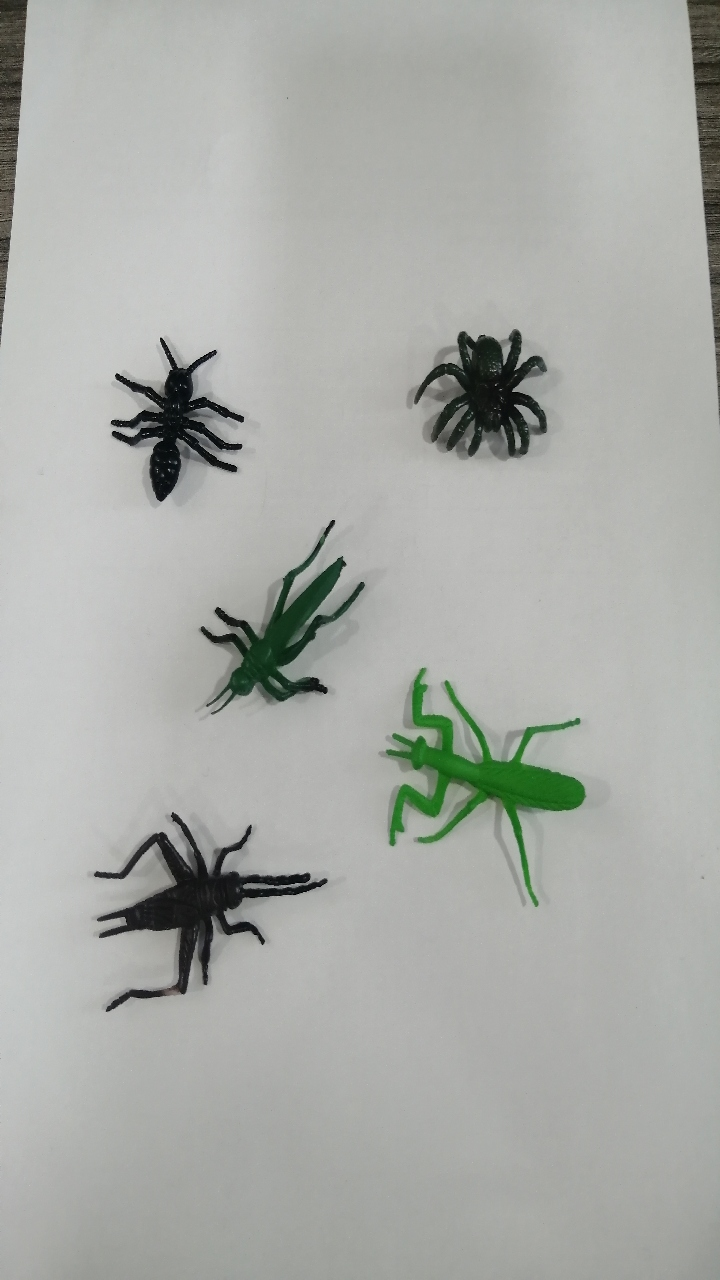intruso: (363, 652, 608, 931), (77, 789, 335, 1032), (183, 512, 388, 740), (388, 280, 568, 499), (81, 315, 252, 528)
